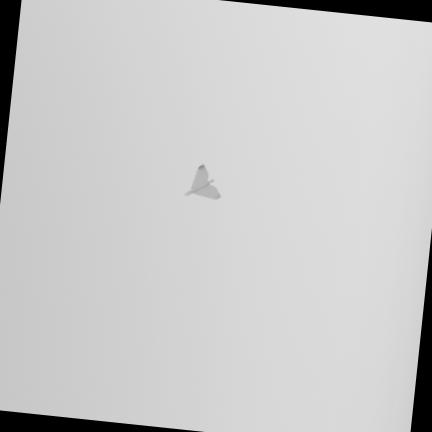Shahed: (184, 163, 220, 198)
